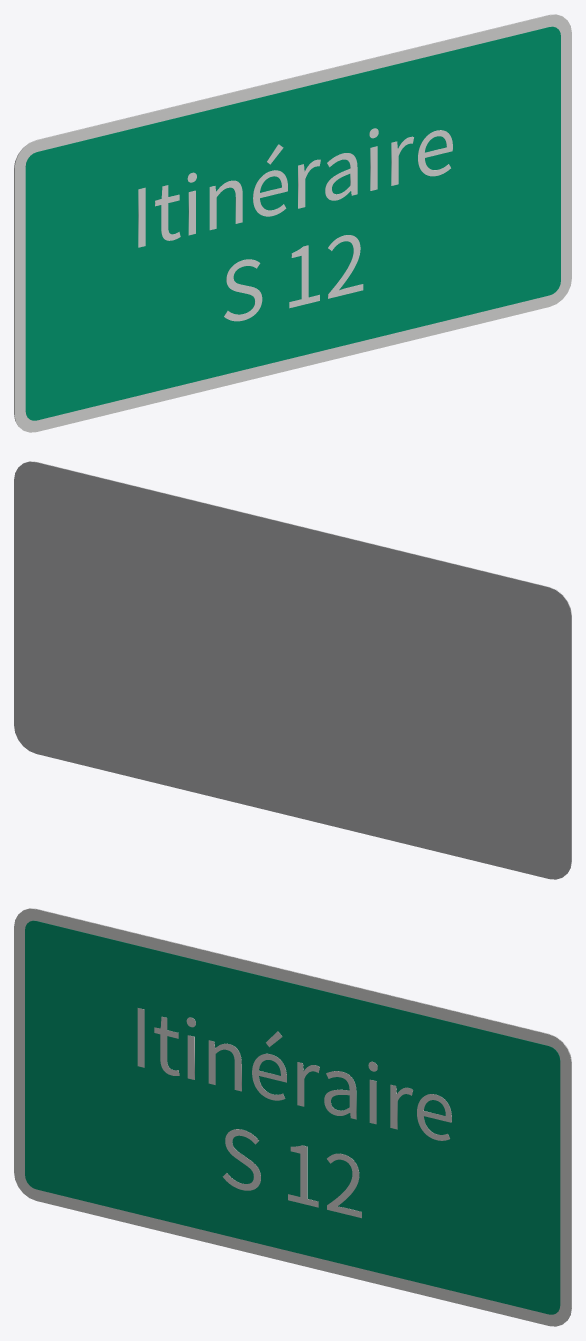
3 renders of one model, top to bottom at view 1: azimuth 30°, elevation 25°; view 2: azimuth 150°, elevation 25°; view 3: azimuth 330°, elevation 25°, orthographic.
Parts seen in each view (by area): view 1: D71_fond01, D71_cadre00, D71_txt02, D71_txt03, D71_dos; view 2: D71_dos; view 3: D71_fond01, D71_cadre00, D71_txt02, D71_txt03, D71_dos.
Boxes of the visible parts, left/top/right/bottom form: D71_fond01: left=25, top=26, right=560, bottom=420; D71_cadre00: left=14, top=14, right=571, bottom=432; D71_txt02: left=138, top=128, right=452, bottom=247; D71_txt03: left=224, top=235, right=363, bottom=321; D71_dos: left=14, top=14, right=559, bottom=426; D71_dos: left=14, top=461, right=571, bottom=879; D71_fond01: left=25, top=920, right=560, bottom=1314; D71_cadre00: left=14, top=908, right=571, bottom=1326; D71_txt02: left=137, top=1008, right=451, bottom=1140; D71_txt03: left=222, top=1129, right=361, bottom=1218; D71_dos: left=26, top=908, right=571, bottom=1320.
Bounding box in the file's own units: 1 × 0.5 × 0.0029.
